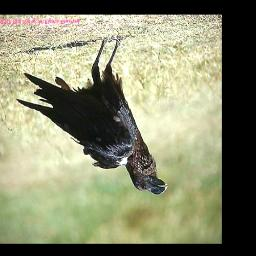Crow: (16, 37, 168, 196)
